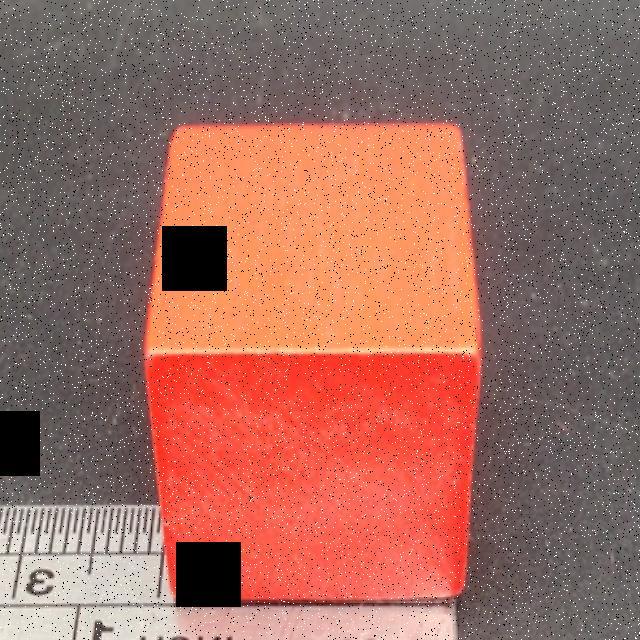red cube: (142, 120, 484, 605)
